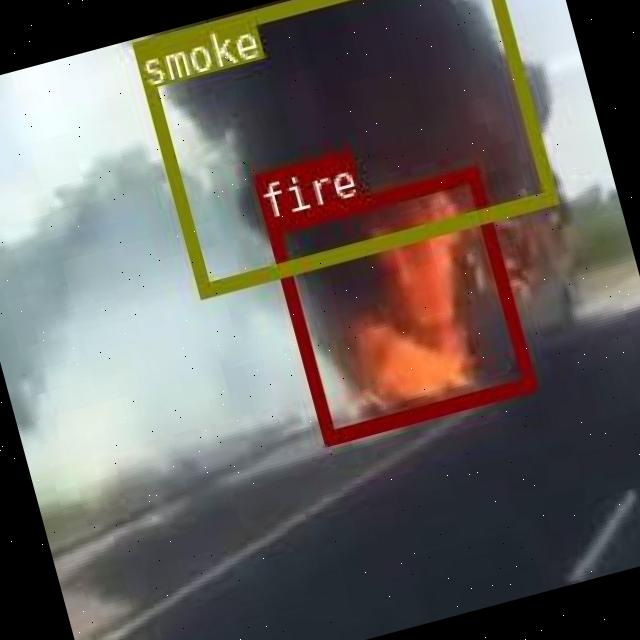fire: (264, 165, 532, 444)
smoke: (129, 0, 554, 295)
